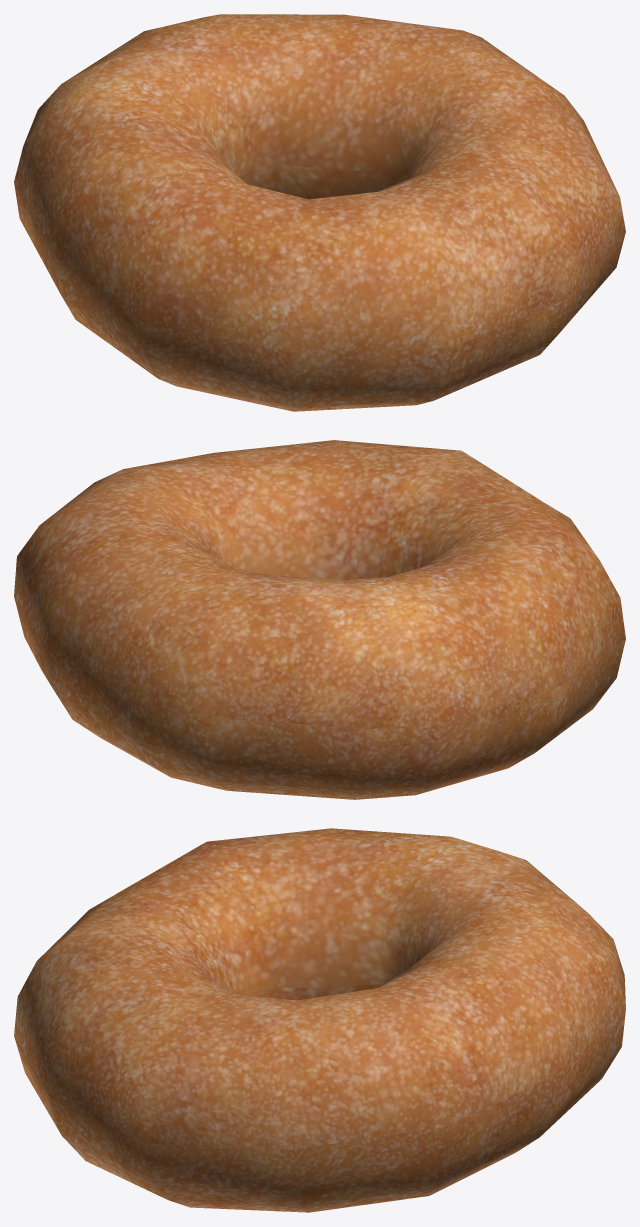
File: Donut4LP.obj
The picture shows the model from 3 angles, top to bottom: view 1: azimuth 30°, elevation 25°; view 2: azimuth 150°, elevation 25°; view 3: azimuth 270°, elevation 25°; orthographic projection.
Visible parts, largest first — view 1: donut063; view 2: donut063; view 3: donut063.
Boxes of the visible parts, <box> form: donut063: <box>14,14,625,411</box>; donut063: <box>14,440,625,799</box>; donut063: <box>14,828,625,1212</box>.
Bounding box in the file's own units: 9.42 × 3.94 × 9.78.
Materials: 1 (1 with a texture image).
